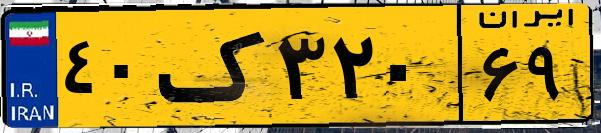0: (385, 28, 445, 110), (110, 28, 158, 98)
2: (330, 28, 385, 110)
3: (270, 28, 330, 110)
4: (57, 26, 110, 100)
6: (475, 38, 525, 113)
9: (525, 38, 570, 115)
ک: (158, 12, 270, 120)
